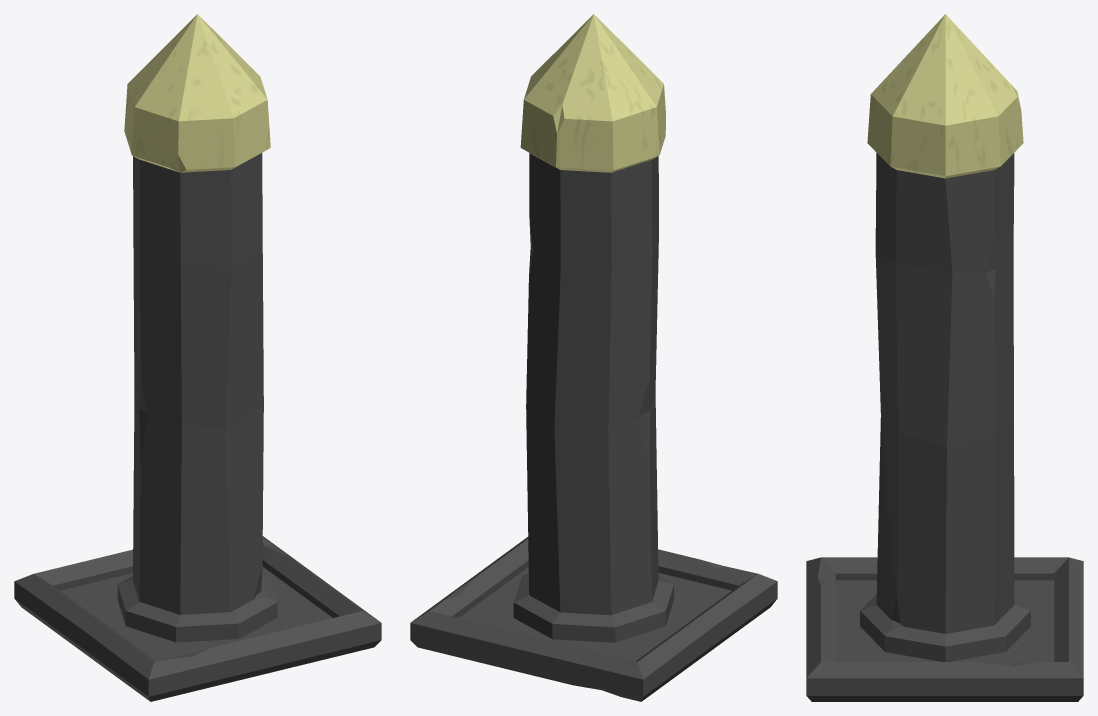
The model's file is Dock_Pole_01.fbx.
3 renders of one model, left to right at view 1: azimuth 30°, elevation 25°; view 2: azimuth 150°, elevation 25°; view 3: azimuth 270°, elevation 25°, orthographic. The views are drawn at different scales.
Visible parts, largest first — view 1: Dock_Pole_01; view 2: Dock_Pole_01; view 3: Dock_Pole_01.
Part boxes in pixels (box(x1,y1,x2,y2)): Dock_Pole_01: box(14, 14, 381, 701); Dock_Pole_01: box(410, 14, 777, 701); Dock_Pole_01: box(806, 14, 1083, 701).
Bounding box in the file's own units: 126 × 318 × 126.
